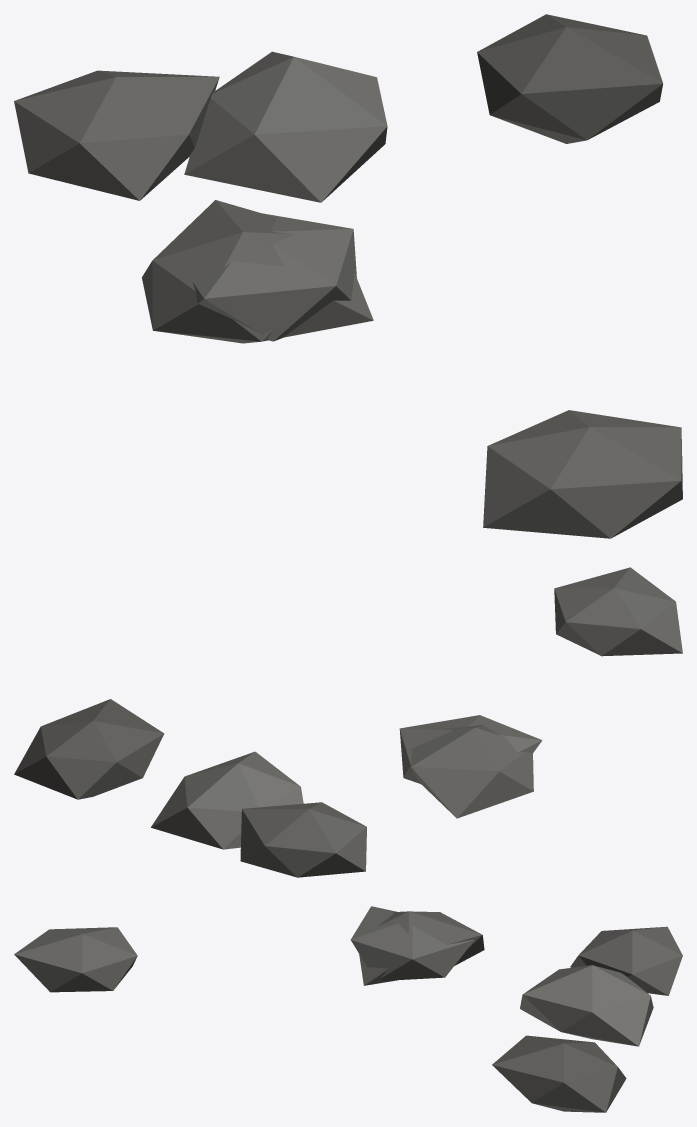
The model's file is pebbles.glb.
3 renders of one model, top to bottom at view 1: azimuth 30°, elevation 25°; view 2: azimuth 150°, elevation 25°; view 3: azimuth 270°, elevation 25°, orthographic. The views are drawn at different scales.
Parts seen in each view (by area): view 1: pebbles; view 2: pebbles; view 3: pebbles.
Boxes of the visible parts, bbox=[...] form: pebbles: bbox=[14, 14, 682, 538]; pebbles: bbox=[14, 567, 682, 877]; pebbles: bbox=[14, 906, 682, 1112].
Size of the model in its own units: 0.6103 by 0.12 by 0.9589.
Materials: 1 (1 with a texture image).
